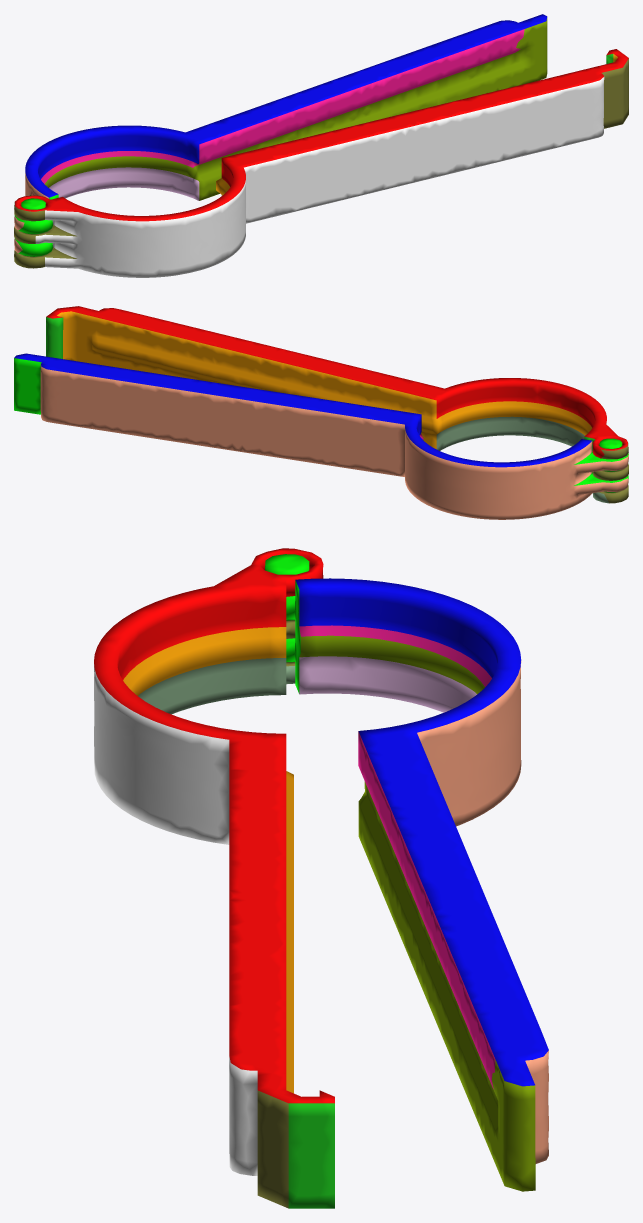
File: model_44_segmented_new.obj
The picture shows the model from 3 angles, top to bottom: view 1: azimuth 30°, elevation 25°; view 2: azimuth 150°, elevation 25°; view 3: azimuth 270°, elevation 25°; orthographic projection. The views are drawn at different scales.
Size of the model in its own units: 170 by 15.04 by 58.81.
